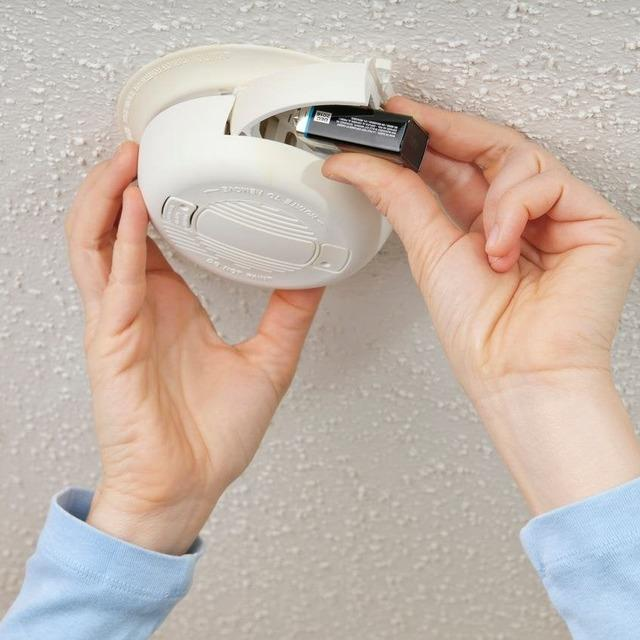Smoke-Detector: (120, 48, 384, 284)
